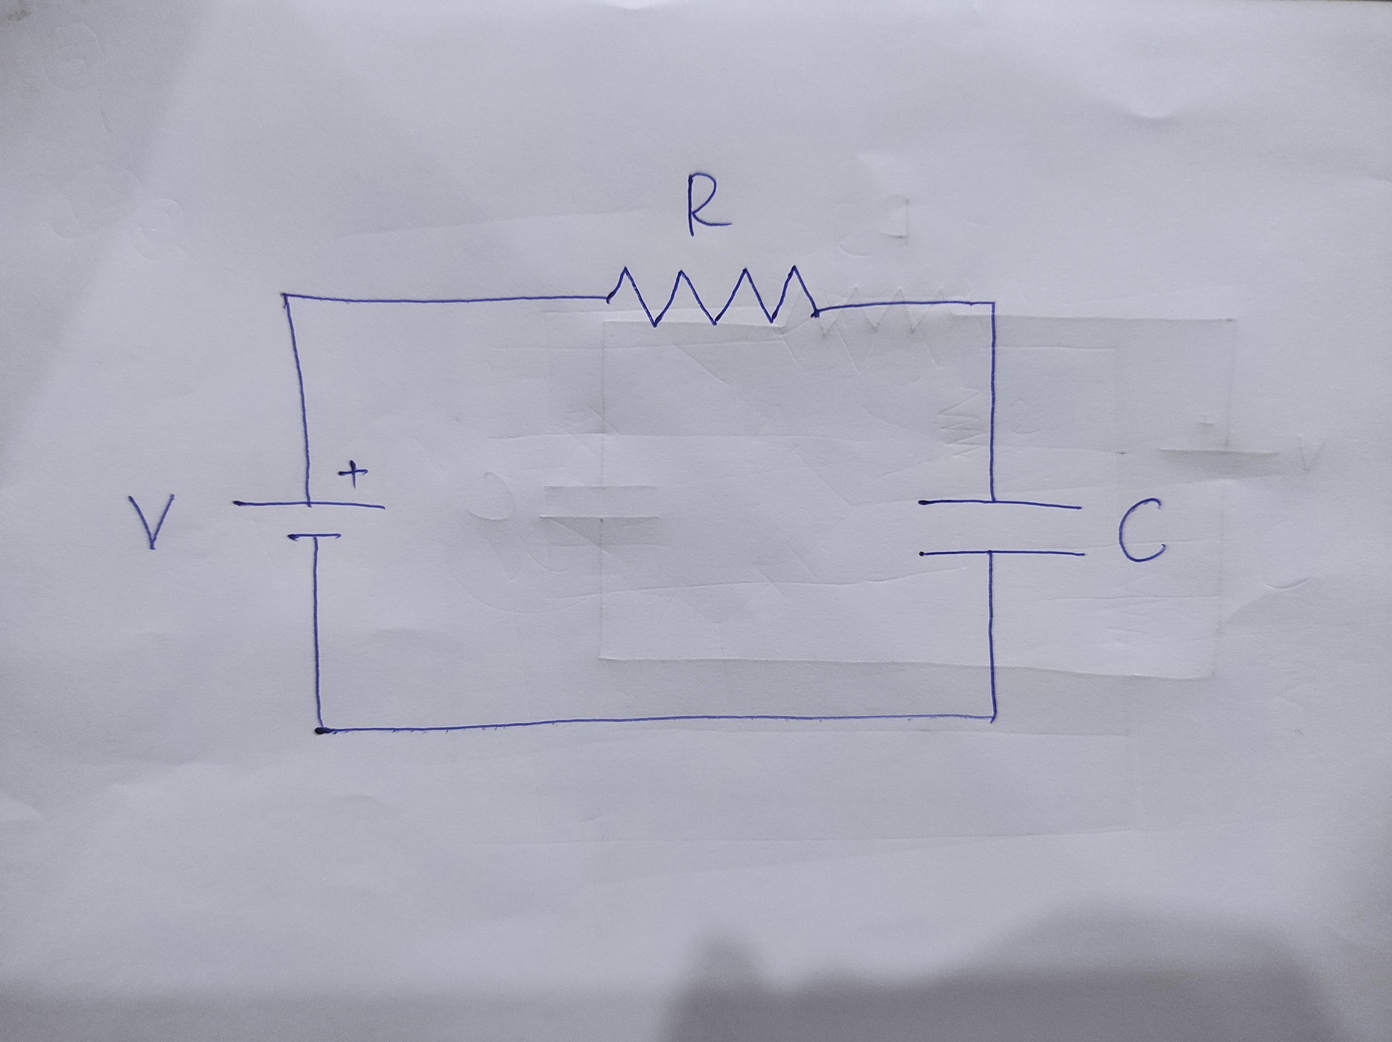capacitor.unpolarized: (908, 490, 1092, 564)
junction: (302, 709, 341, 746), (981, 704, 1007, 731), (272, 281, 298, 309), (979, 292, 1005, 317)
resistor: (600, 258, 827, 329)
text: (1113, 493, 1171, 567), (684, 164, 736, 238), (127, 488, 176, 552)
voltage.dc: (228, 458, 391, 544)
